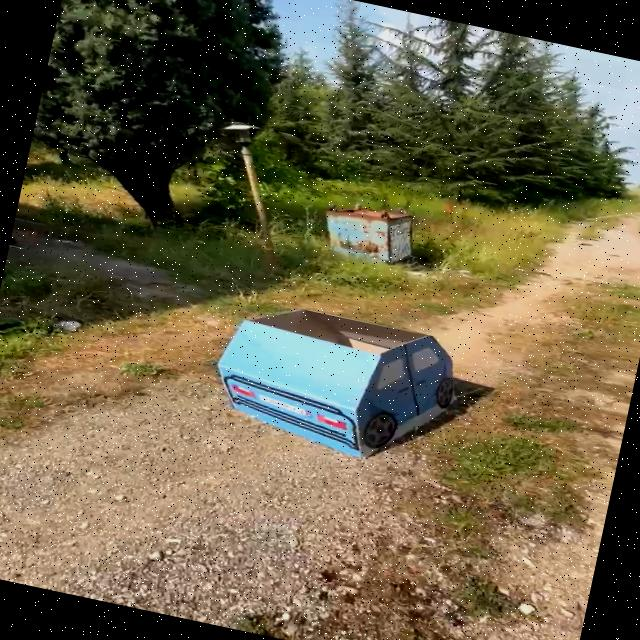blue_car: (191, 274, 500, 482)
